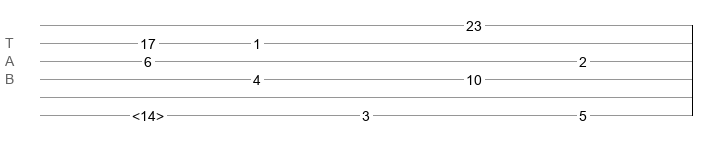1: (253, 36, 261, 46)
10: (466, 72, 482, 82)
17: (140, 36, 156, 46)
2: (579, 54, 587, 64)
23: (466, 18, 482, 28)
3: (362, 108, 370, 118)
4: (253, 72, 261, 82)
5: (579, 108, 587, 118)
6: (144, 54, 152, 64)
harmonic: (132, 108, 164, 118)
